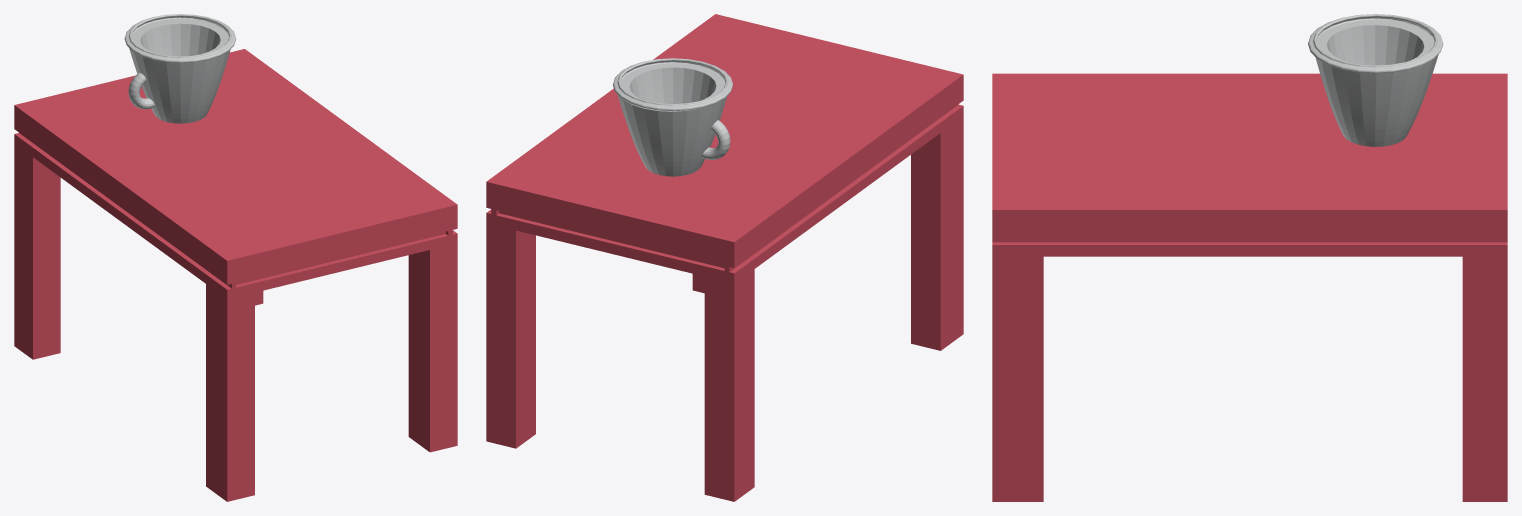
The model's file is Epic Inari.glb.
3 renders of one model, left to right at view 1: azimuth 30°, elevation 25°; view 2: azimuth 150°, elevation 25°; view 3: azimuth 270°, elevation 25°, orthographic. The views are drawn at different scales.
Parts seen in each view (by area): view 1: Mesh_Mesh_head_geo.001_lambert2SG.001; view 2: Mesh_Mesh_head_geo.001_lambert2SG.001; view 3: Mesh_Mesh_head_geo.001_lambert2SG.001.
Part boxes in pixels (box(x1,y1,x2,y2)): Mesh_Mesh_head_geo.001_lambert2SG.001: box(14, 14, 457, 501); Mesh_Mesh_head_geo.001_lambert2SG.001: box(486, 14, 963, 501); Mesh_Mesh_head_geo.001_lambert2SG.001: box(992, 14, 1507, 501).
Bounding box in the file's own units: 50 × 67.09 × 80.
